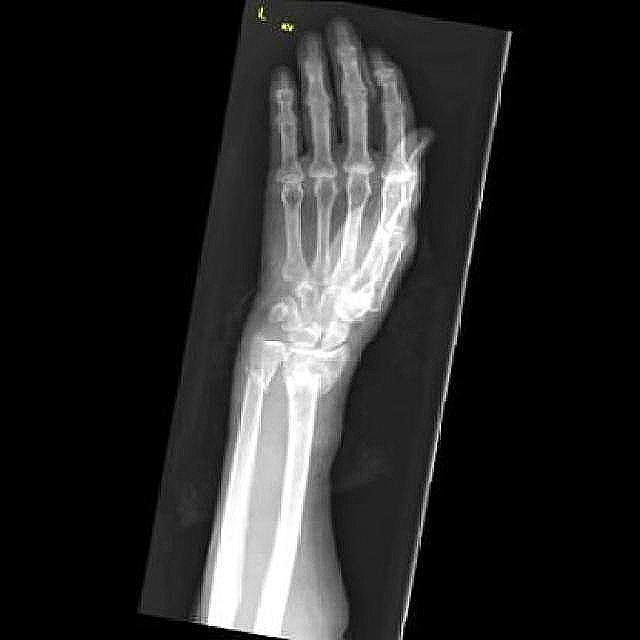bone: (282, 360, 331, 400), (236, 360, 270, 394)
